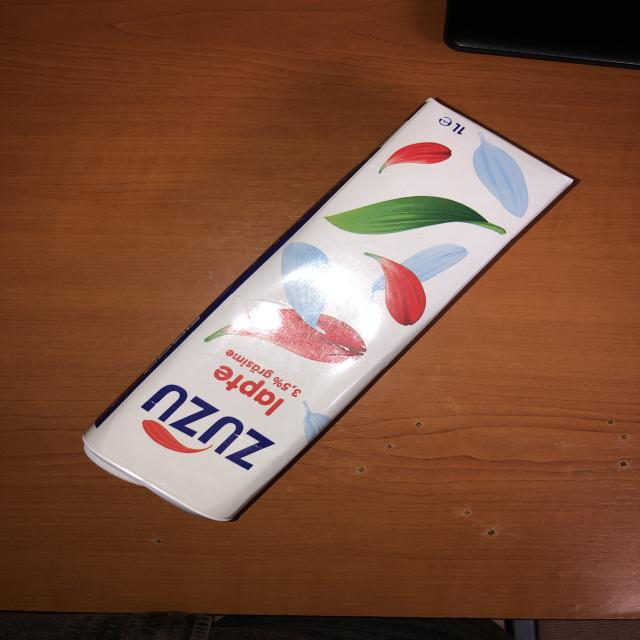milk: (78, 96, 580, 524)
